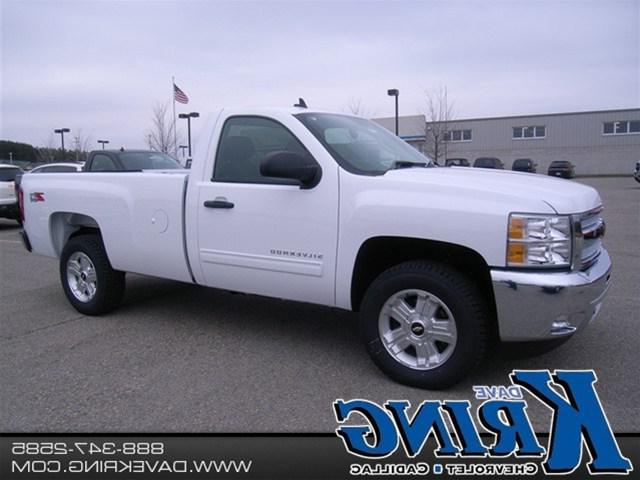Car: (1, 98, 619, 401)
